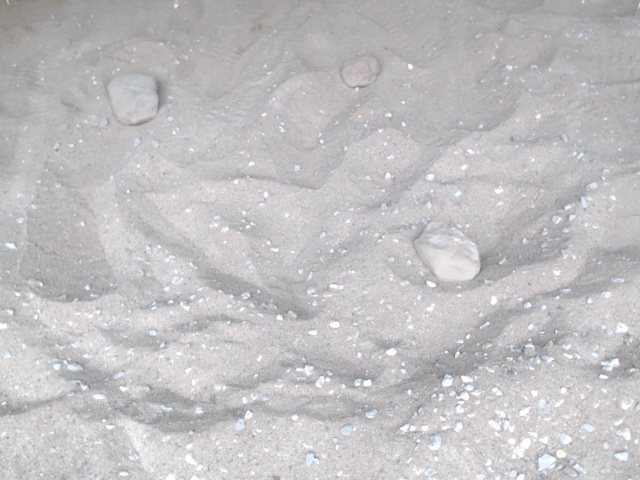rock: (408, 217, 484, 290), (103, 70, 163, 130), (337, 48, 384, 93)
